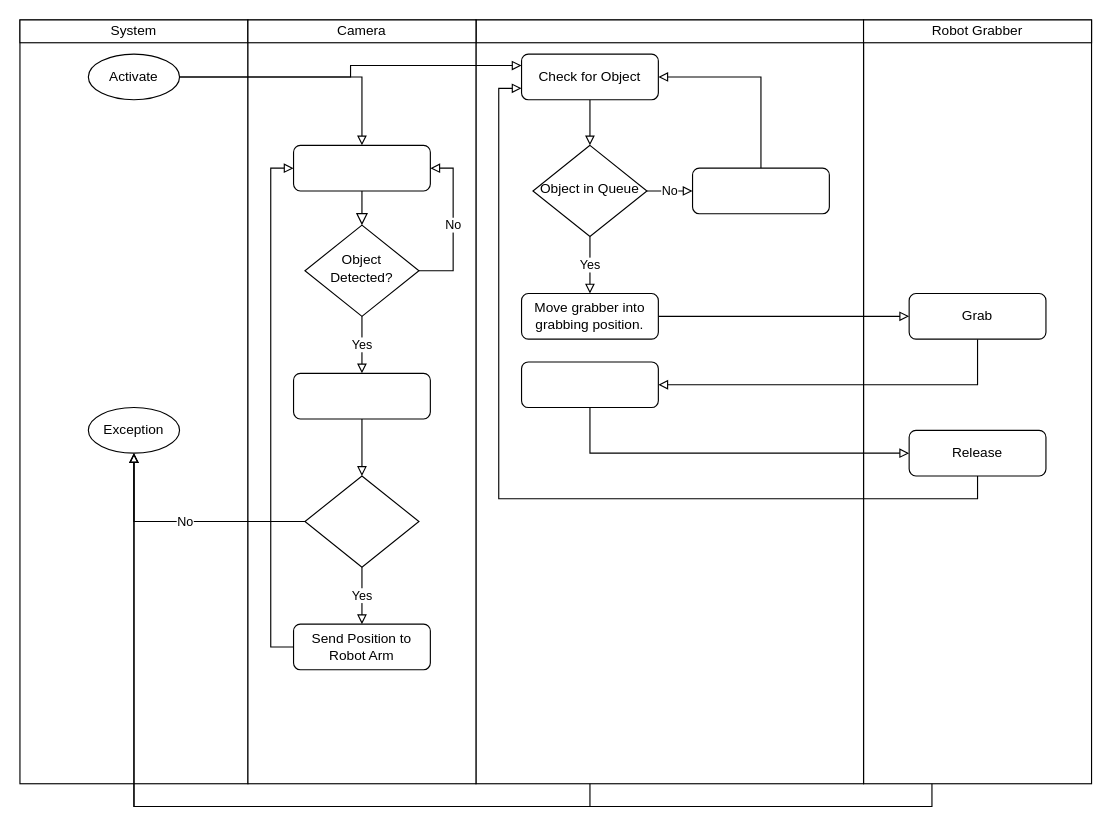
The diagram is 1112 pixels wide and 836 high, and some of its shapes have lost their labels. Each missing label, with the centre of its shape:
Analyze Object: (361,395)
Is Shape Known?: (361,521)
Move arm to idle Position: (760,190)
Move Grabber into depositing position: (589,384)
Robot Arm: (669,31)
Scan for Object: (361,167)
